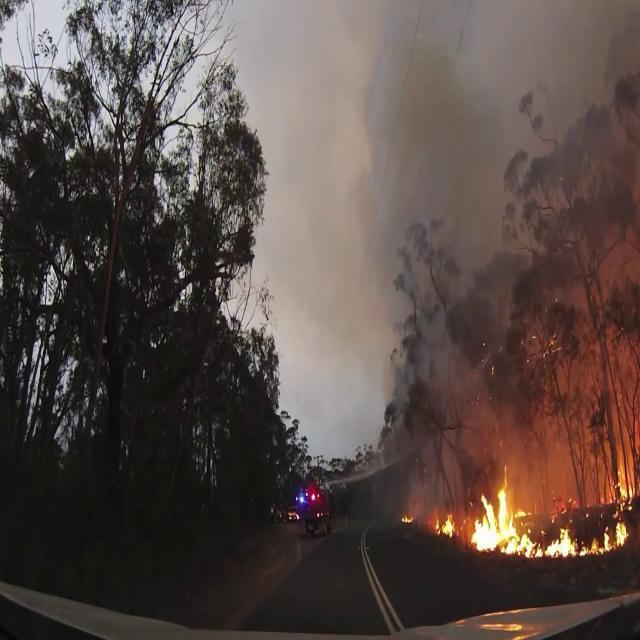Fire: (470, 465, 634, 562), (434, 510, 456, 538), (401, 514, 414, 524)
Smoke: (345, 1, 640, 532)
